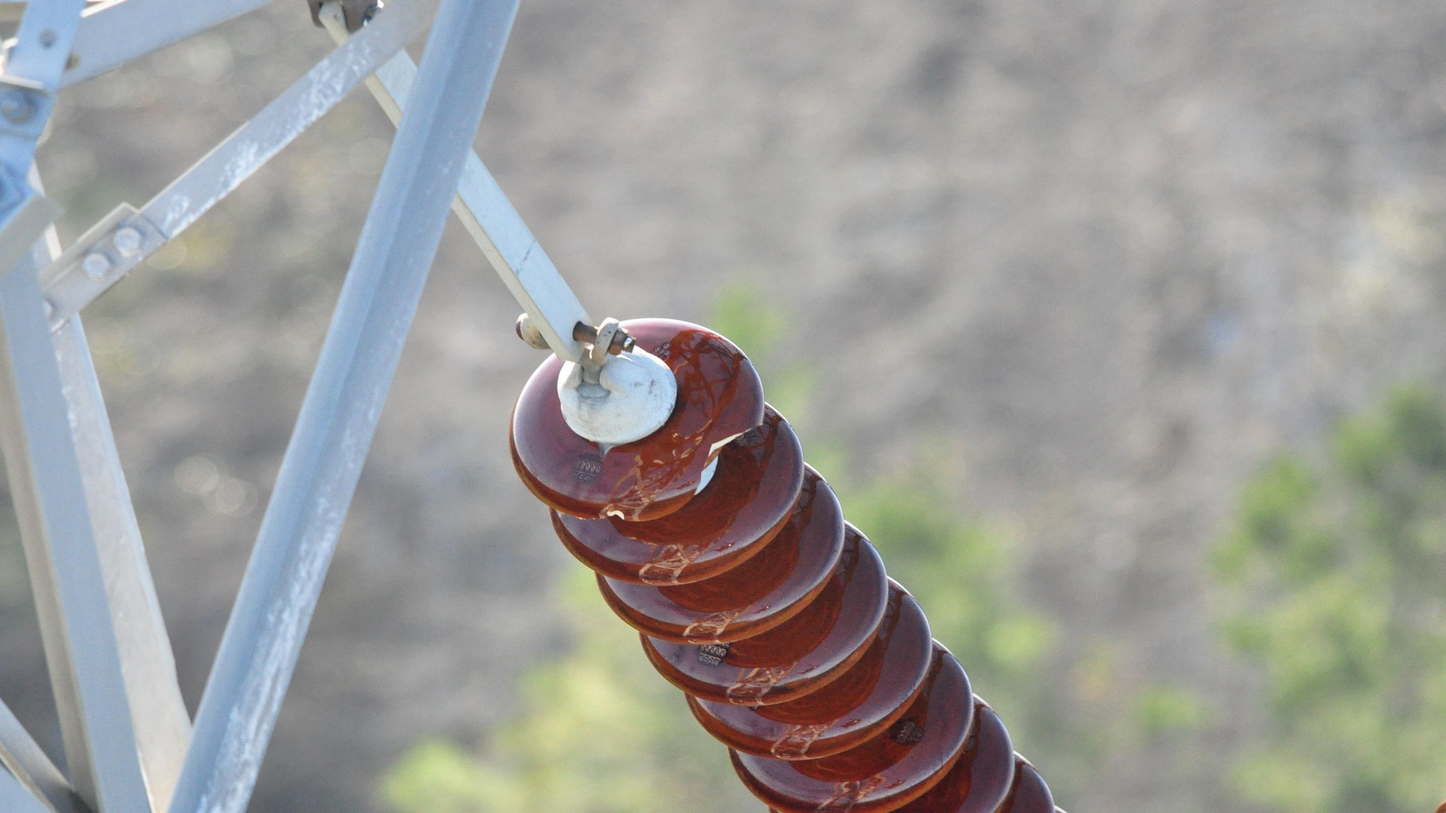insulator: (502, 311, 1072, 813)
